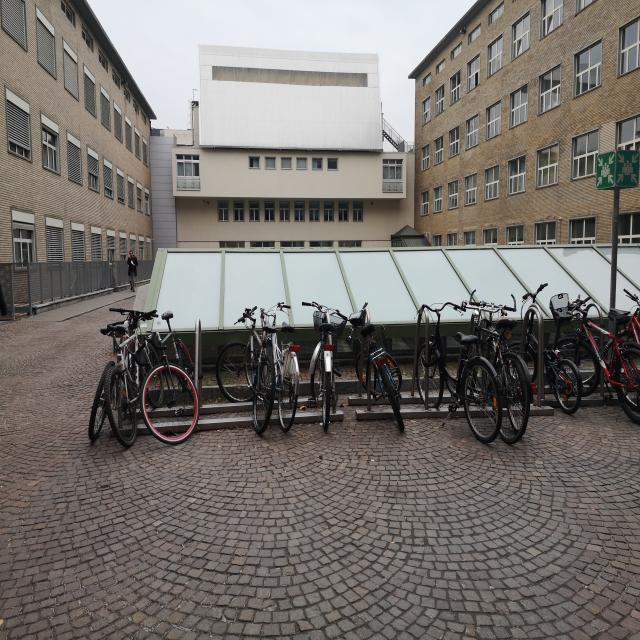Bicycle: (420, 294, 499, 451), (99, 291, 169, 468), (461, 299, 527, 459), (79, 275, 141, 440), (565, 289, 640, 423), (496, 294, 578, 416), (142, 306, 207, 458), (348, 300, 400, 474), (219, 290, 272, 459), (274, 294, 309, 434), (314, 292, 338, 429), (609, 271, 640, 364)
